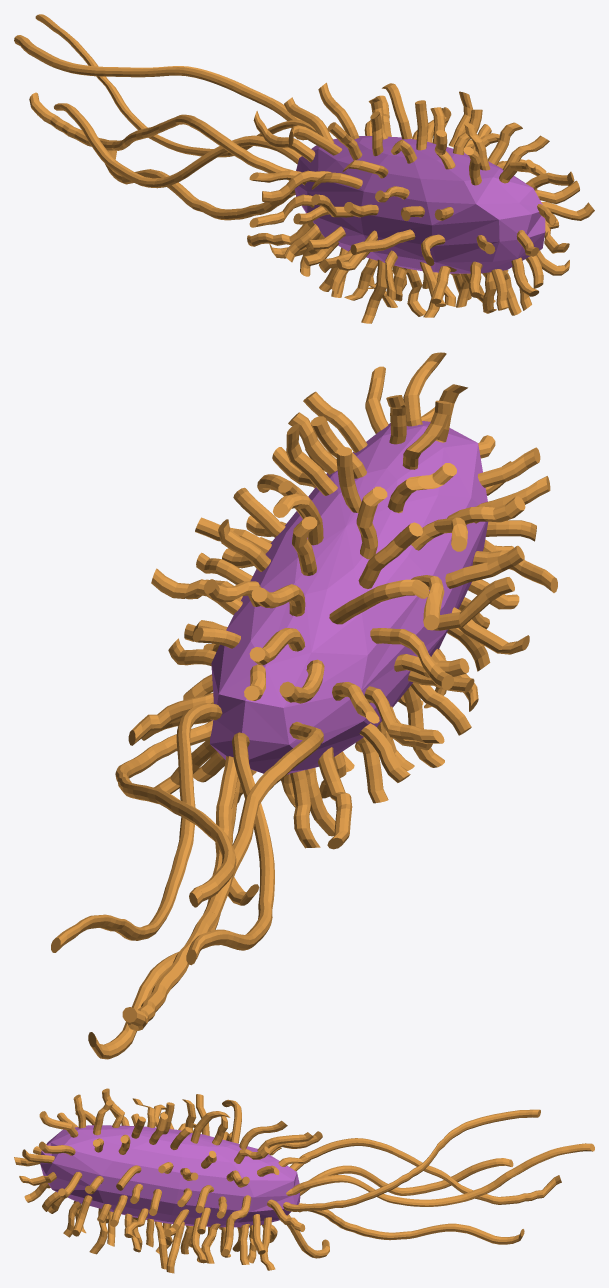
The model's file is model-triangulated.obj.
The picture shows the model from 3 angles, top to bottom: view 1: azimuth 30°, elevation 25°; view 2: azimuth 150°, elevation 25°; view 3: azimuth 270°, elevation 25°; orthographic projection. The views are drawn at different scales.
Visible parts, largest first — view 1: group965603308, group1526687825, group445787569, group102650992, group322424273, group1569168005, group2105471855, group2010277189, group1254749751, group2128958444, group485566967, group943516629 (+32 smaller); view 2: group965603308, group445787569, group322424273, group1526687825, group102650992, group1569168005, group2024120351, group1884883259, group2010277189, group485566967, group707451602, group728309375 (+33 smaller); view 3: group965603308, group322424273, group1526687825, group445787569, group1569168005, group102650992, group316008370, group2128958444, group1215248032, group2024120351, group257811283, group1304374622 (+27 smaller).
Boxes of the visible parts, x1,y1,x2,y2 form: group965603308: (294, 136, 545, 273); group1526687825: (14, 35, 300, 120); group445787569: (29, 92, 292, 180); group102650992: (54, 103, 301, 188); group322424273: (35, 14, 332, 157); group1569168005: (105, 150, 295, 220); group2105471855: (253, 111, 315, 162); group2010277189: (262, 170, 331, 202); group1254749751: (350, 229, 415, 255); group2128958444: (318, 82, 359, 139); group485566967: (249, 194, 314, 227); group943516629: (361, 259, 386, 323); group965603308: (209, 421, 488, 774); group445787569: (122, 722, 323, 1030); group322424273: (51, 703, 222, 952); group1526687825: (115, 720, 236, 907); group102650992: (186, 732, 274, 965); group1569168005: (88, 756, 237, 1059); group2024120351: (329, 579, 429, 624); group1884883259: (318, 747, 352, 849); group2010277189: (370, 628, 453, 690); group485566967: (364, 686, 444, 743); group707451602: (433, 577, 514, 630); group728309375: (358, 522, 422, 588); group965603308: (40, 1125, 300, 1227); group322424273: (286, 1143, 594, 1206); group1526687825: (283, 1109, 540, 1211); group445787569: (290, 1138, 561, 1204); group1569168005: (298, 1203, 524, 1244); group102650992: (300, 1158, 513, 1195); group316008370: (287, 1214, 329, 1258); group2128958444: (239, 1120, 287, 1149); group1215248032: (257, 1132, 313, 1151); group2024120351: (222, 1099, 241, 1143); group257811283: (166, 1222, 184, 1273); group1304374622: (260, 1217, 275, 1270).
Bounding box in the file's own units: 0.5353 × 0.4704 × 1.44.
